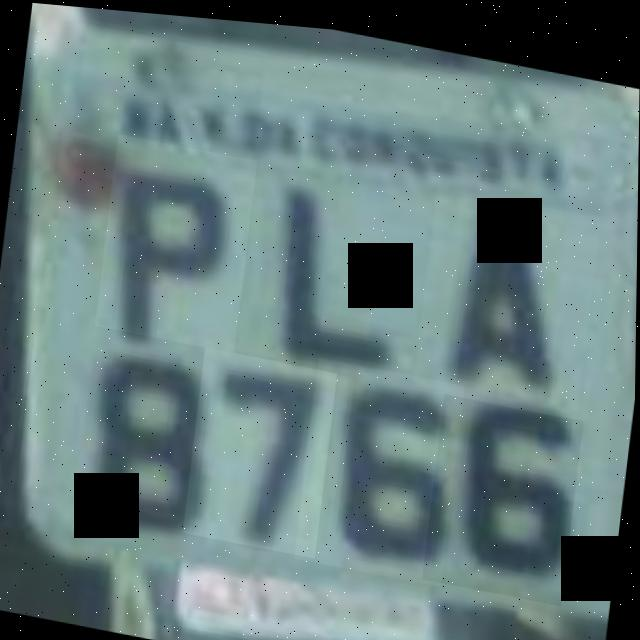6: (295, 350, 466, 579), (424, 384, 585, 596)
7: (184, 342, 338, 553)
A: (411, 176, 601, 430)
J: (249, 156, 405, 391)
P: (95, 129, 258, 350)
